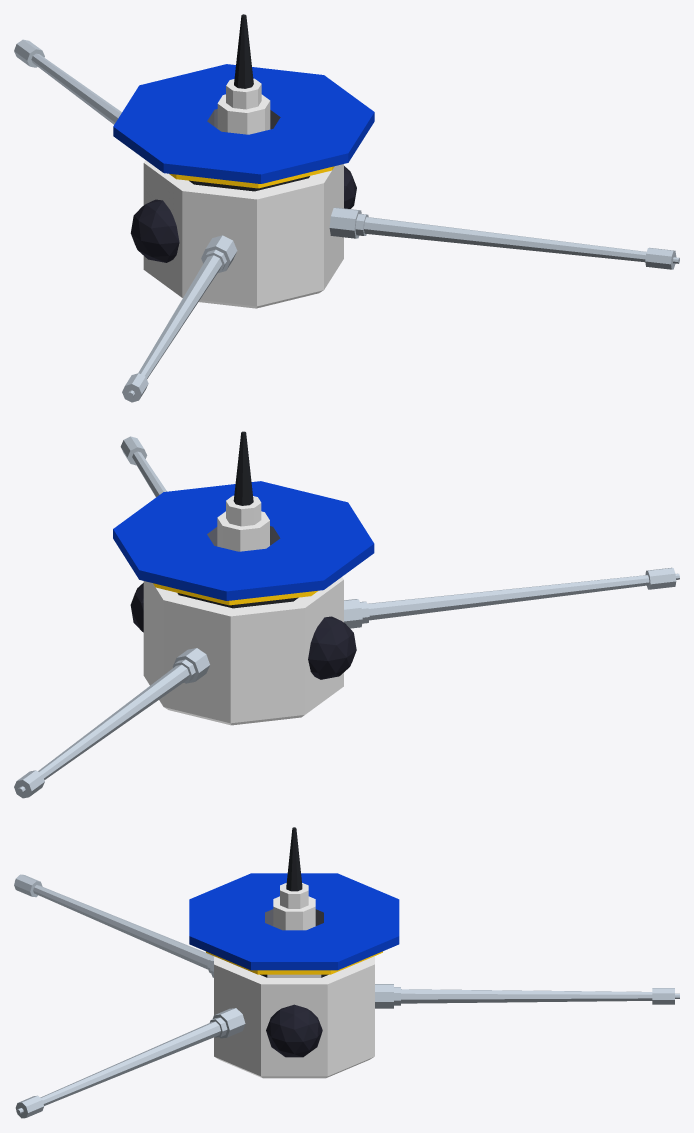
Rendered from Satellite15.glb.
3 views of the same model, one above another, from view 1: azimuth 30°, elevation 25°; view 2: azimuth 150°, elevation 25°; view 3: azimuth 270°, elevation 25° (orthographic). The views are drawn at different scales.
Parts seen in each view (by area): view 1: Satellite15-main, Satellite15-antenna2, Satellite15-antenna3, Satellite15-antenna1; view 2: Satellite15-main, Satellite15-antenna3, Satellite15-antenna1, Satellite15-antenna2; view 3: Satellite15-main, Satellite15-antenna1, Satellite15-antenna2, Satellite15-antenna3.
Boxes of the visible parts, x1,y1,x2,y2 form: Satellite15-main: [113, 14, 374, 308]; Satellite15-antenna2: [329, 207, 679, 269]; Satellite15-antenna3: [122, 235, 237, 402]; Satellite15-antenna1: [14, 39, 121, 124]; Satellite15-main: [113, 431, 374, 725]; Satellite15-antenna3: [344, 567, 679, 628]; Satellite15-antenna1: [14, 648, 209, 798]; Satellite15-antenna2: [120, 436, 166, 497]; Satellite15-main: [189, 827, 399, 1078]; Satellite15-antenna1: [375, 984, 679, 1008]; Satellite15-antenna2: [15, 1008, 245, 1118]; Satellite15-antenna3: [14, 874, 213, 977].
Bounding box in the file's own units: 6.34 × 2.77 × 7.65.
